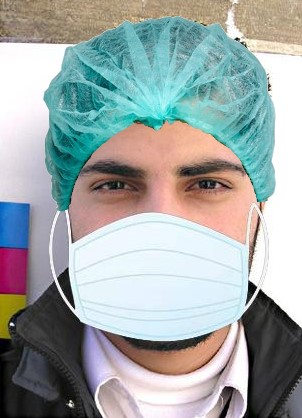with_mask_and_cap: (46, 17, 274, 339)
